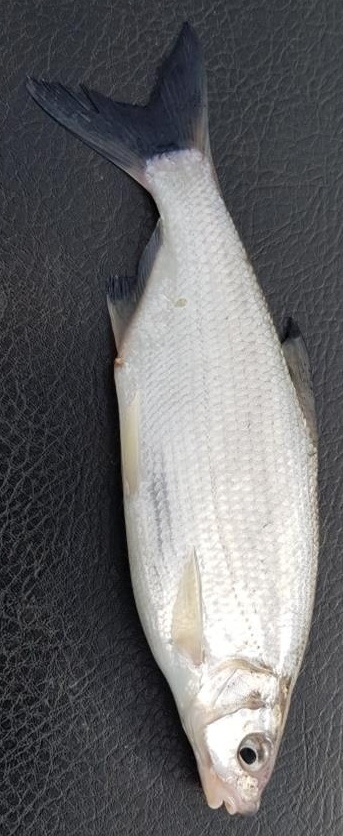Vimba vimba: (20, 20, 323, 816)
